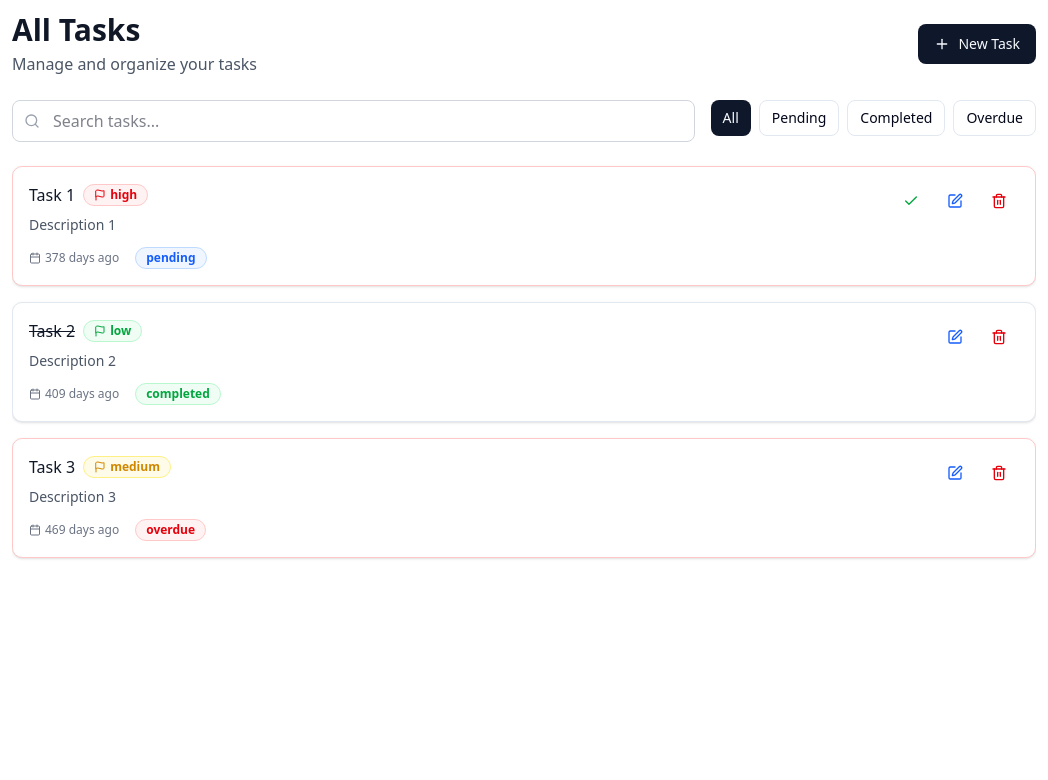
TasksPage › filters tasks by status - pending
Expected: the heading "Task 1" is shown, [29,183,75,207]
Click the button "pending": click(799, 118) [759,100,839,136]
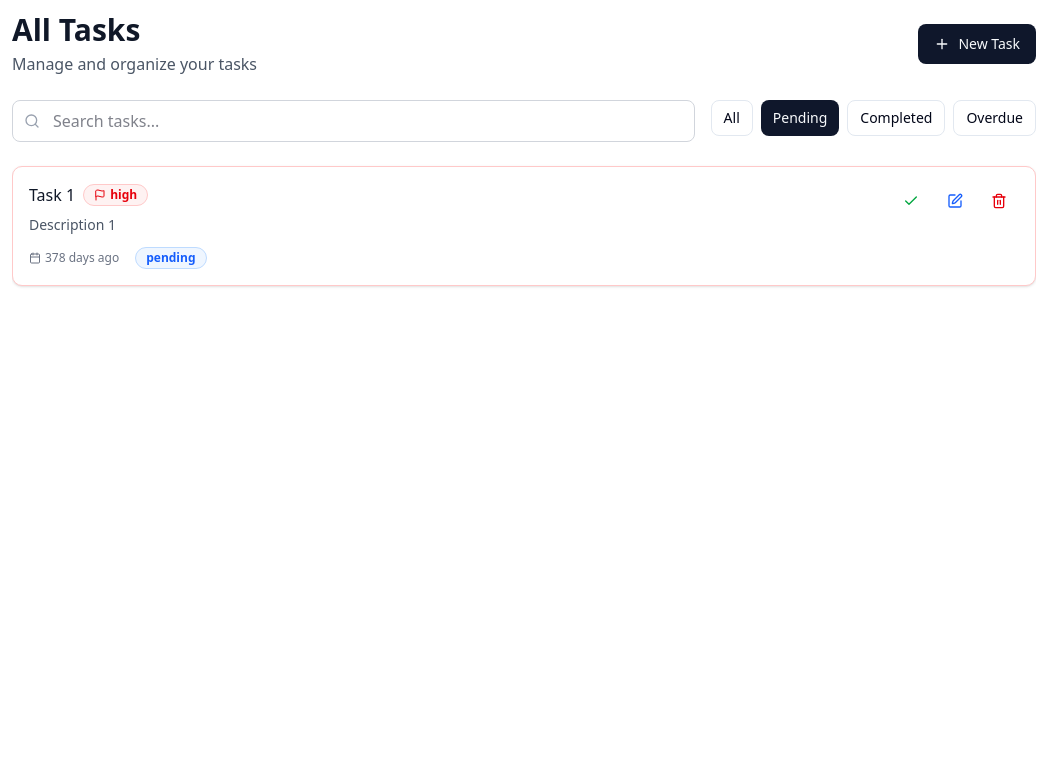
Expected: the heading "Task 1" is shown, [29,183,75,207]
Result: the heading "Task 2" is gone
Result: the heading "Task 3" is gone
